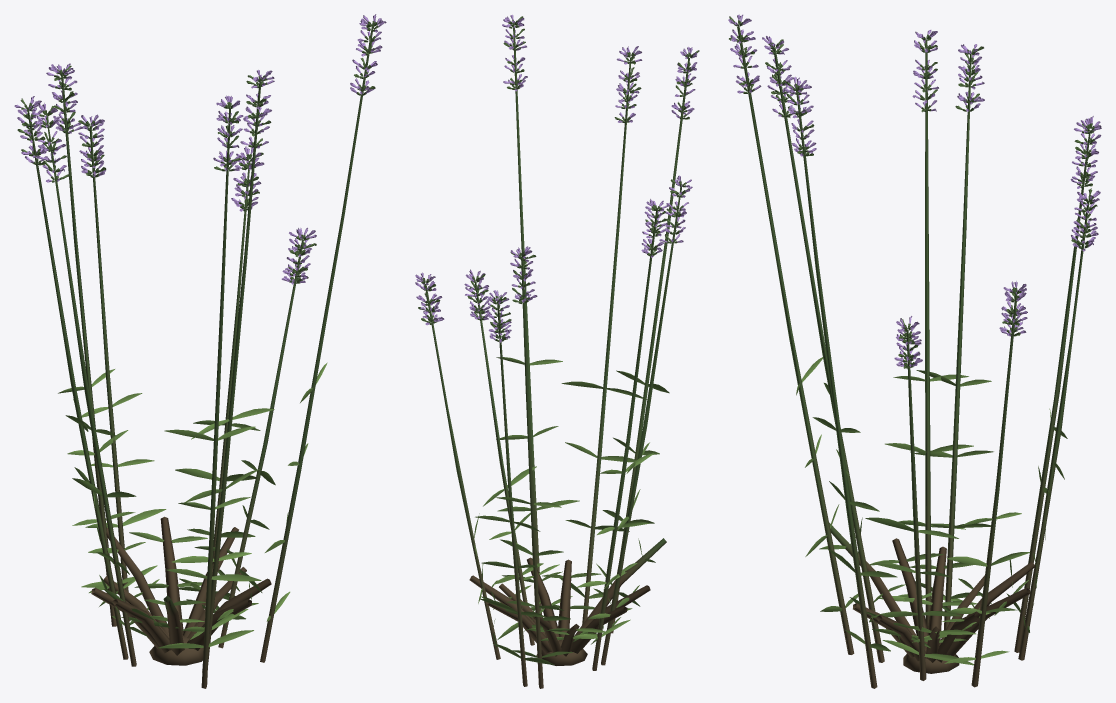
The model's file is Lavender_lod1.glb.
3 views of the same model, side by side, from view 1: azimuth 30°, elevation 25°; view 2: azimuth 150°, elevation 25°; view 3: azimuth 270°, elevation 25° (orthographic). The views are drawn at different scales.
Parts seen in each view (by area): view 1: Plant_LOD1; view 2: Plant_LOD1; view 3: Plant_LOD1.
Boxes of the visible parts, x1,y1,x2,y2 form: Plant_LOD1: (14, 14, 386, 688); Plant_LOD1: (415, 15, 699, 688); Plant_LOD1: (728, 14, 1101, 688).
Size of the model in its own units: 0.3033 by 0.6748 by 0.3562.
